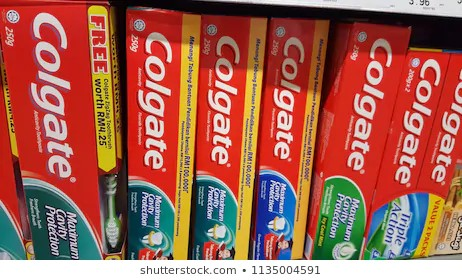colgate-medium: (3, 3, 118, 259), (252, 21, 328, 260), (129, 13, 202, 260), (192, 15, 266, 258)
lays-med: (119, 29, 274, 248)
